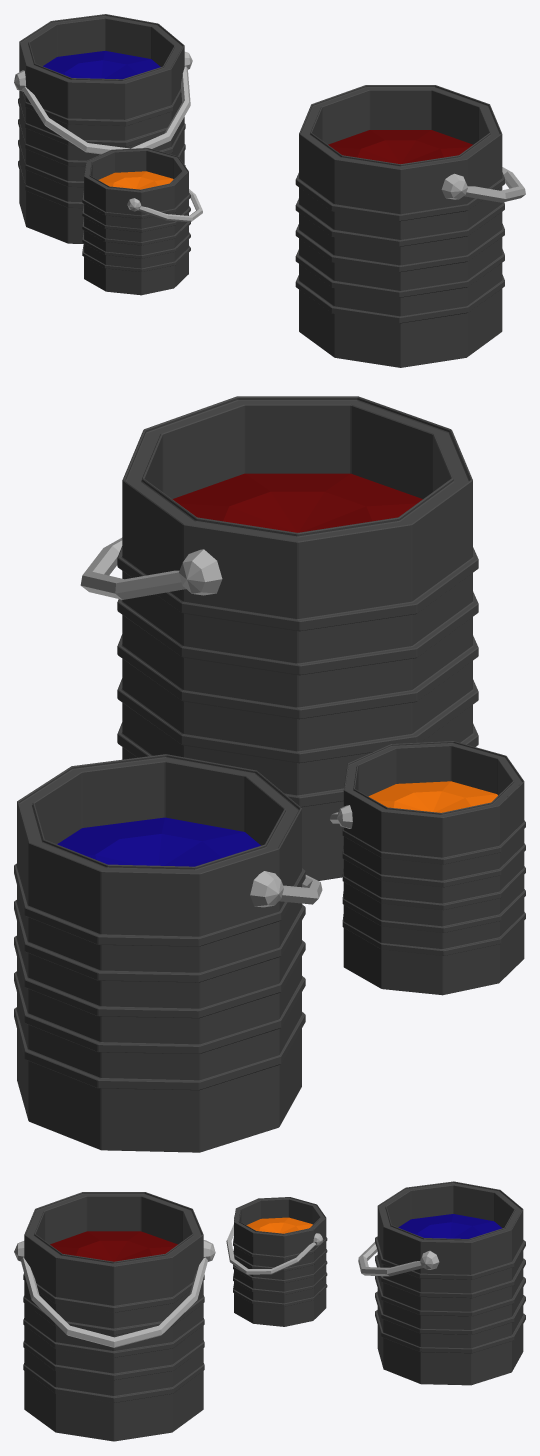
Rendered from pots_peinture.FBX.
3 views of the same model, one above another, from view 1: azimuth 30°, elevation 25°; view 2: azimuth 150°, elevation 25°; view 3: azimuth 270°, elevation 25° (orthographic). The views are drawn at different scales.
Parts seen in each view (by area): view 1: Cylinder005; view 2: Cylinder005; view 3: Cylinder005.
Part boxes in pixels (x1=…): Cylinder005: x1=14, y1=14, x2=525, y2=367; Cylinder005: x1=14, y1=396, x2=525, y2=1152; Cylinder005: x1=14, y1=1181, x2=525, y2=1441.
Size of the model in its own units: 49.09 by 74.46 by 28.14.
